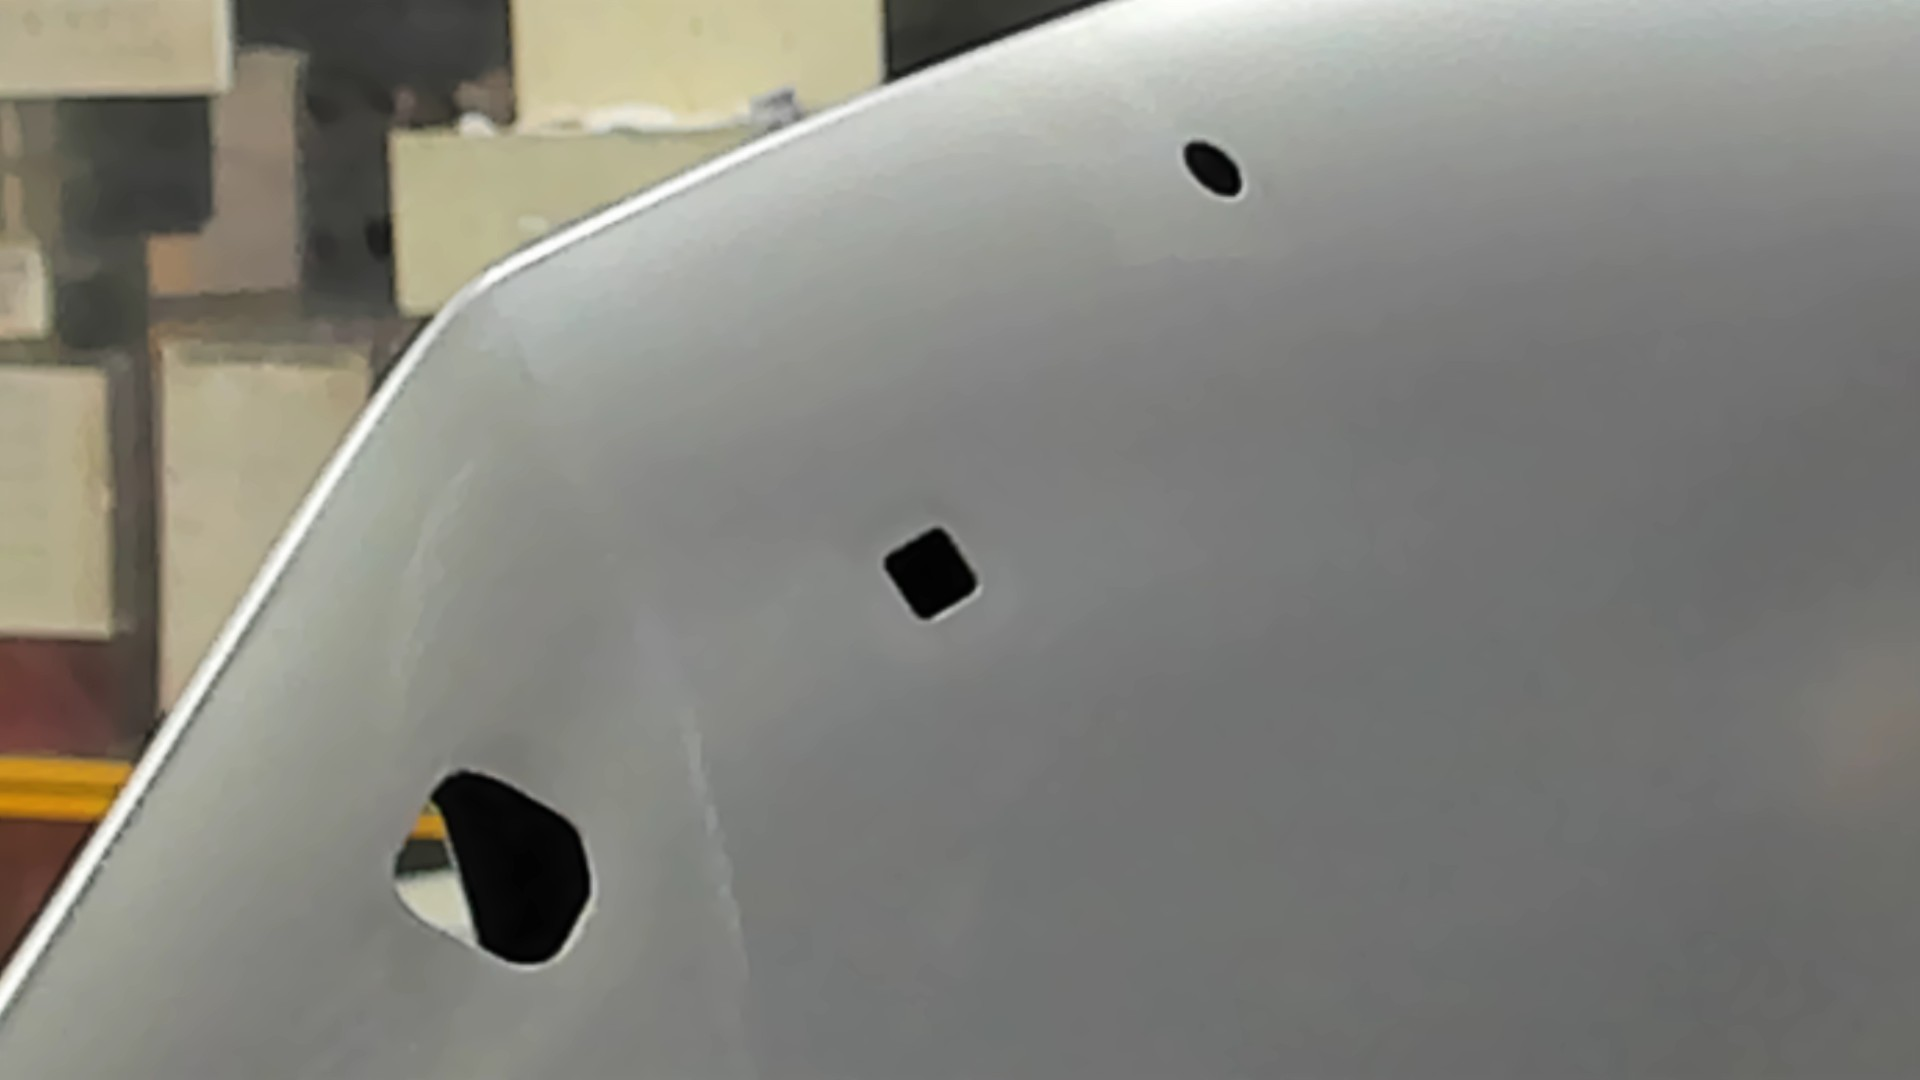chico: (1179, 136, 1246, 200)
grande: (388, 767, 597, 972)
mediano: (880, 524, 982, 624)
